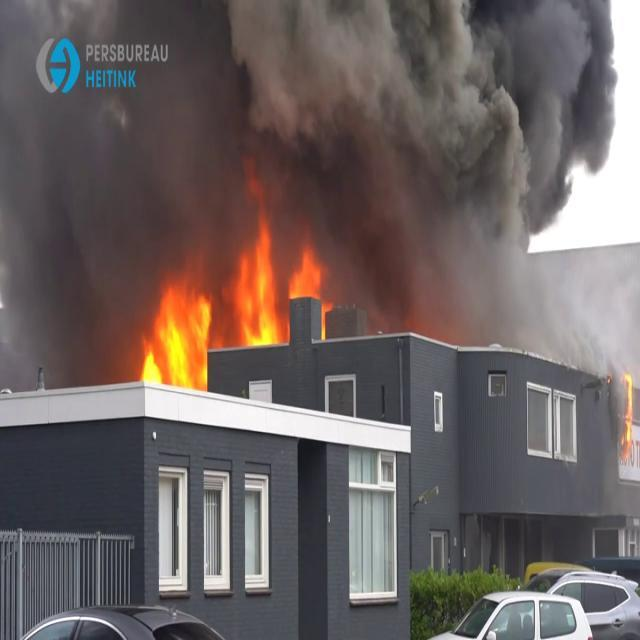Fire: (137, 280, 213, 396), (236, 219, 288, 348), (620, 368, 636, 453)
Smoke: (1, 1, 632, 308)
